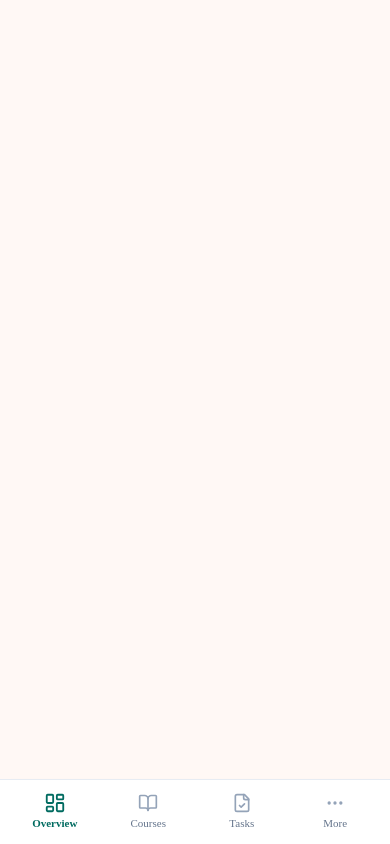
Scenario: StudentBottomNav Component (NAV-01) › opens the More drawer when 'More' is clicked
Click the button with aria-label "open more navigation options".
click(335, 812)  # box [288,788,382,836]
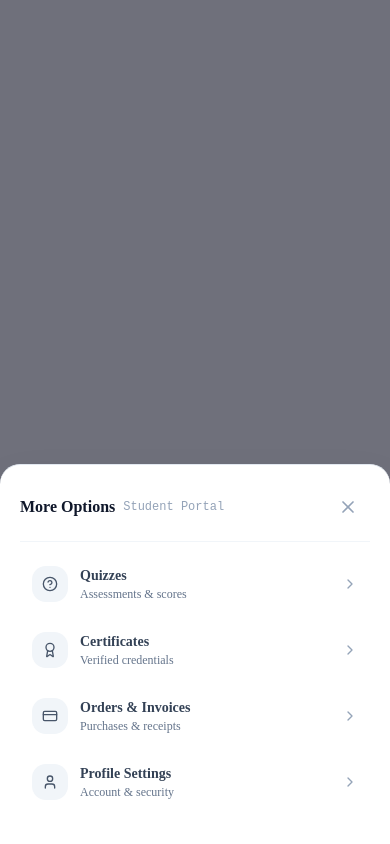
Expected: the dialog is shown, [0,464,389,843]
Expected: the text "Quizzes" is shown, [80,568,127,583]
Expected: the text "Certificates" is shown, [80,634,149,649]
